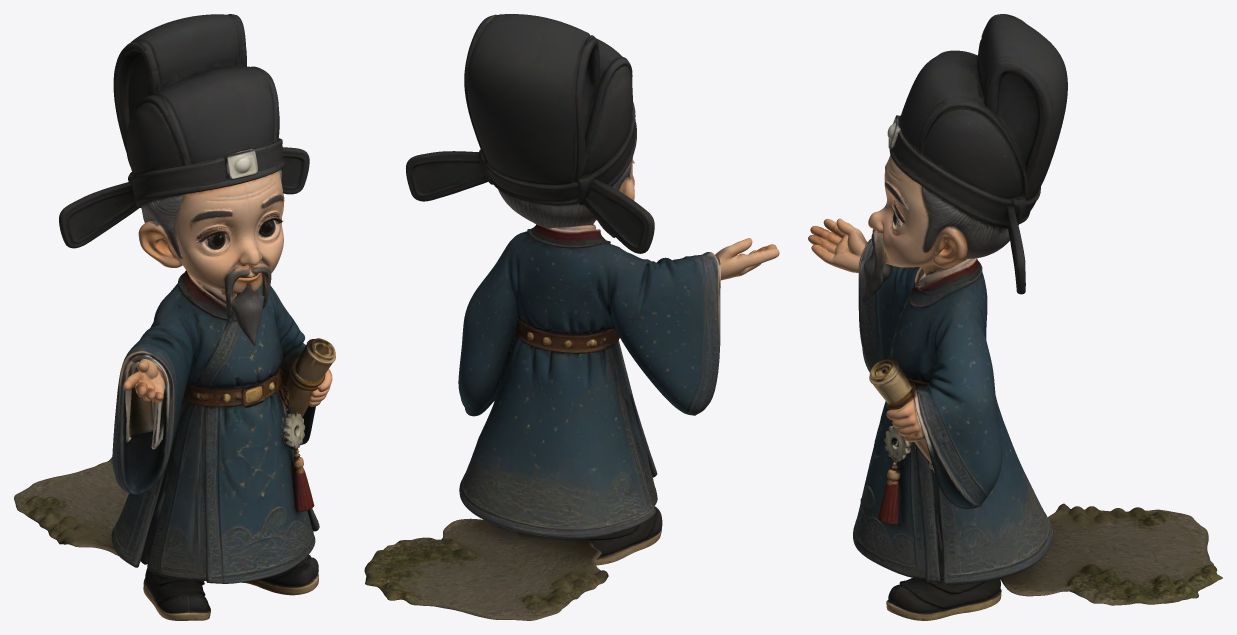
The model's file is gate-pause.glb.
3 renders of one model, left to right at view 1: azimuth 30°, elevation 25°; view 2: azimuth 150°, elevation 25°; view 3: azimuth 270°, elevation 25°, orthographic. The views are drawn at different scales.
Visible parts, largest first — view 1: node_0; view 2: node_0; view 3: node_0.
Boxes of the visible parts, bbox=[...] form: node_0: bbox=[14, 14, 335, 620]; node_0: bbox=[364, 14, 779, 620]; node_0: bbox=[808, 14, 1222, 620].
Bounding box in the file's own units: 0.5619 × 1.05 × 0.7113.
1 material, 1 textured.
